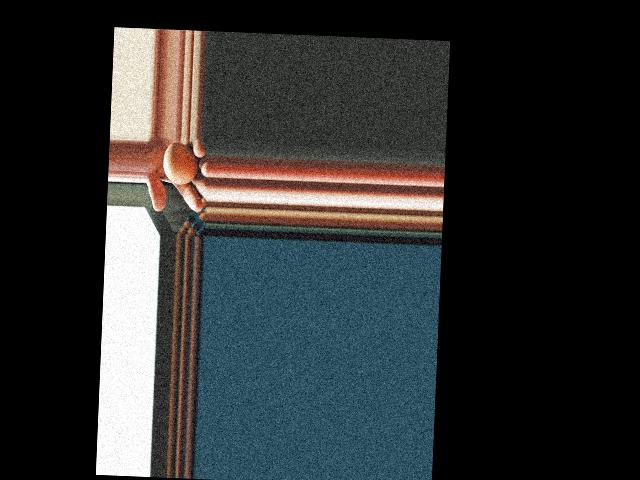egg: (162, 140, 199, 185)
